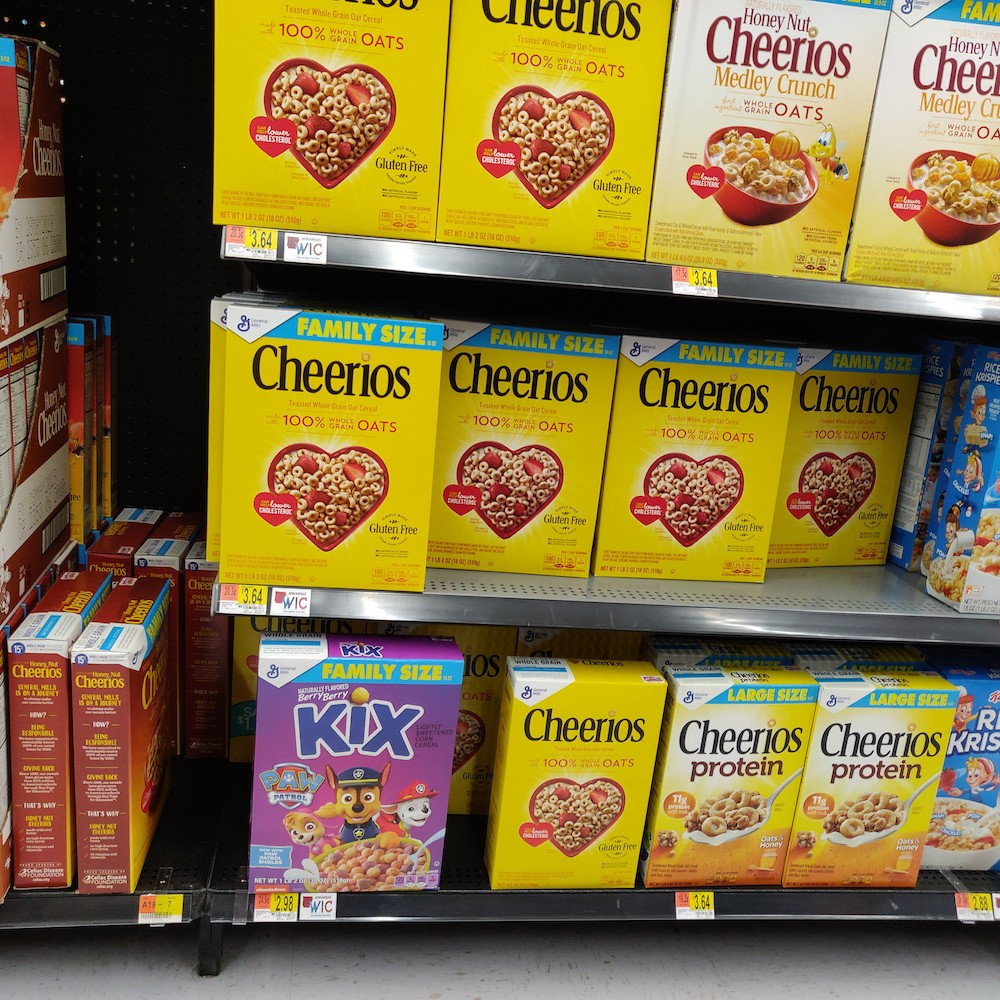Kix Berry -568919964: (253, 647, 452, 900)
